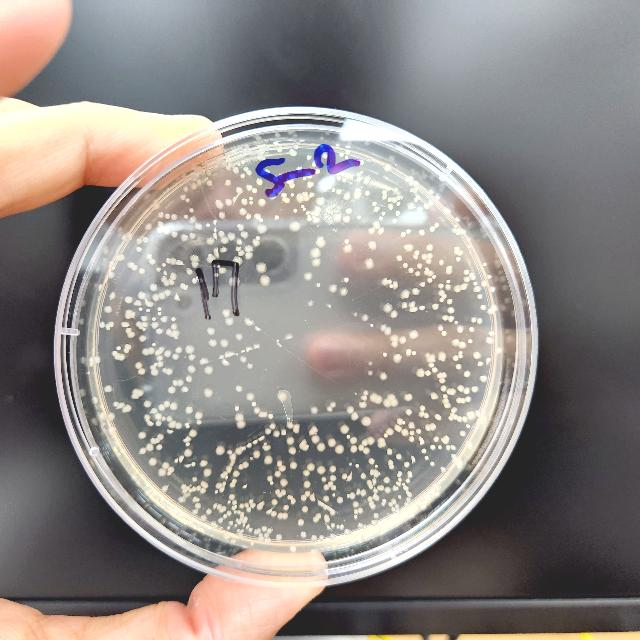colony: (290, 220, 300, 232), (364, 258, 374, 270), (216, 445, 226, 455), (316, 442, 326, 452), (340, 424, 350, 434), (244, 317, 254, 327), (204, 388, 214, 398), (188, 428, 198, 438), (144, 298, 154, 308), (310, 248, 320, 258), (256, 262, 266, 272), (260, 276, 270, 286), (332, 213, 342, 223), (229, 276, 239, 286), (343, 244, 353, 254), (400, 289, 410, 299), (383, 303, 393, 313), (409, 330, 419, 340), (361, 416, 371, 426), (122, 404, 132, 414), (132, 388, 144, 396), (234, 412, 243, 422), (237, 419, 247, 428), (224, 316, 233, 326), (257, 224, 267, 233), (316, 197, 326, 206), (393, 354, 402, 364), (106, 412, 115, 421), (284, 332, 294, 340), (278, 392, 286, 402), (186, 344, 194, 354), (208, 339, 218, 347), (265, 506, 275, 514), (222, 308, 230, 318), (190, 254, 200, 262), (115, 253, 125, 261), (234, 256, 242, 266), (316, 239, 326, 247), (340, 287, 348, 297), (296, 193, 304, 203), (368, 241, 376, 251), (384, 326, 392, 336), (438, 351, 446, 361), (440, 436, 450, 444), (468, 410, 476, 420), (336, 444, 344, 454), (374, 394, 382, 404), (109, 426, 117, 436), (115, 402, 125, 410), (190, 173, 200, 181), (328, 438, 336, 447), (207, 327, 216, 335), (204, 366, 213, 374), (162, 483, 170, 492), (312, 258, 321, 266), (389, 334, 398, 342), (379, 372, 387, 381), (213, 247, 219, 259), (309, 491, 315, 502), (246, 392, 254, 400), (311, 406, 319, 414), (264, 456, 272, 464), (312, 436, 320, 444), (220, 339, 228, 347), (188, 365, 196, 373), (168, 386, 176, 394), (185, 406, 193, 414), (195, 411, 203, 419), (184, 449, 192, 457), (204, 468, 212, 476), (162, 461, 170, 469), (158, 468, 166, 476), (149, 457, 157, 465), (200, 514, 208, 522), (280, 478, 288, 486), (168, 420, 176, 428), (170, 402, 178, 410), (146, 443, 154, 451), (139, 447, 147, 455), (138, 431, 146, 439), (144, 400, 152, 408), (151, 368, 159, 376), (164, 349, 172, 357), (148, 347, 156, 355), (142, 348, 150, 356), (138, 292, 146, 300), (150, 284, 158, 292), (152, 293, 160, 301), (158, 292, 166, 300), (104, 305, 112, 313), (130, 311, 138, 319), (152, 202, 160, 210), (189, 216, 197, 224), (216, 202, 224, 210), (239, 208, 247, 216), (227, 232, 235, 240), (221, 236, 229, 244), (253, 238, 261, 246), (241, 231, 249, 239), (258, 198, 266, 206), (304, 272, 312, 280), (328, 176, 336, 184), (343, 192, 351, 200), (329, 284, 337, 292), (363, 176, 371, 184), (384, 164, 392, 172), (413, 194, 421, 202), (407, 202, 415, 210), (373, 221, 381, 229), (412, 288, 420, 296), (406, 244, 414, 252), (390, 310, 398, 318), (399, 336, 407, 344), (461, 282, 469, 290), (485, 337, 493, 345), (490, 304, 498, 312), (473, 351, 481, 359), (456, 384, 464, 392), (417, 369, 425, 377), (430, 392, 438, 400), (404, 393, 412, 401), (396, 418, 404, 426), (386, 427, 394, 435), (391, 398, 399, 406), (350, 436, 358, 444), (317, 466, 325, 474), (307, 463, 315, 471), (346, 405, 354, 413), (370, 393, 378, 401), (222, 532, 230, 540), (330, 542, 338, 550), (104, 385, 112, 393), (388, 394, 397, 401), (172, 330, 178, 340), (134, 300, 144, 306), (392, 280, 398, 290), (346, 471, 352, 481), (253, 343, 260, 351), (235, 384, 242, 392), (253, 406, 260, 414), (230, 452, 237, 460), (232, 469, 240, 476), (235, 333, 242, 341), (222, 359, 230, 366), (175, 346, 182, 354), (173, 292, 180, 300), (108, 292, 115, 300), (163, 288, 170, 296), (170, 272, 177, 280), (207, 238, 215, 245), (207, 255, 215, 262), (144, 223, 152, 230), (195, 222, 202, 230), (225, 198, 232, 206), (245, 252, 252, 260), (245, 245, 253, 252), (342, 215, 350, 222), (426, 243, 434, 250), (452, 339, 460, 346), (464, 370, 471, 378), (384, 399, 391, 407), (344, 528, 351, 536), (317, 499, 325, 506), (409, 306, 418, 312), (253, 213, 260, 220), (444, 208, 451, 215), (240, 356, 248, 362), (258, 435, 266, 441), (253, 452, 261, 458), (288, 437, 294, 445), (288, 448, 296, 454), (278, 465, 286, 471), (275, 470, 281, 478), (243, 461, 249, 469), (188, 354, 196, 360), (186, 375, 192, 383), (200, 460, 208, 466), (290, 462, 298, 468), (156, 412, 162, 420), (150, 408, 158, 414), (164, 400, 170, 408), (131, 393, 139, 399), (156, 355, 164, 361), (172, 354, 180, 360), (155, 349, 163, 355), (135, 362, 143, 368), (138, 368, 146, 374), (174, 328, 180, 336), (160, 316, 168, 322), (156, 328, 164, 334), (140, 334, 146, 342), (170, 257, 176, 265), (176, 260, 184, 266), (187, 268, 193, 276), (126, 296, 132, 304), (122, 321, 130, 327), (148, 259, 156, 265), (188, 233, 196, 239), (157, 226, 163, 234), (127, 232, 133, 240), (191, 182, 197, 190), (218, 212, 226, 218), (224, 179, 232, 185), (241, 198, 247, 206), (239, 224, 245, 232), (218, 231, 226, 237), (219, 268, 227, 274), (247, 184, 253, 192), (257, 178, 263, 186), (354, 188, 362, 194), (354, 193, 362, 199), (312, 217, 320, 223), (314, 206, 322, 212), (372, 206, 380, 212), (416, 207, 424, 213), (378, 227, 384, 235), (382, 277, 388, 285), (428, 270, 434, 278), (408, 302, 416, 308), (362, 314, 368, 322), (406, 349, 412, 357), (473, 286, 481, 292), (456, 326, 464, 332), (488, 330, 496, 336), (486, 308, 494, 314), (438, 378, 446, 384), (466, 441, 472, 449), (430, 423, 436, 431), (418, 436, 424, 444), (402, 428, 408, 436), (368, 437, 374, 445), (362, 438, 368, 446), (350, 446, 358, 452), (304, 480, 310, 488), (360, 489, 366, 497), (326, 523, 332, 531), (311, 534, 317, 542), (352, 412, 358, 420), (236, 533, 244, 539), (264, 537, 272, 543), (99, 412, 105, 420), (95, 356, 101, 364), (329, 401, 336, 407), (235, 448, 242, 454), (230, 482, 237, 488), (178, 379, 184, 386), (175, 422, 182, 428), (215, 482, 222, 488), (168, 467, 175, 473), (159, 404, 165, 411), (165, 369, 172, 375), (182, 233, 188, 240), (108, 272, 115, 278), (164, 228, 170, 235), (246, 213, 252, 220), (220, 247, 227, 253), (346, 208, 352, 215), (380, 324, 386, 331), (464, 276, 471, 282), (454, 286, 461, 292), (459, 342, 466, 348), (479, 376, 486, 382), (444, 402, 451, 408), (475, 409, 481, 416), (456, 459, 462, 466), (364, 448, 371, 454), (359, 402, 366, 408), (114, 354, 120, 361), (119, 354, 125, 361), (426, 358, 436, 362), (374, 468, 378, 478), (372, 476, 376, 486), (247, 363, 253, 369), (268, 413, 274, 419), (287, 422, 293, 428), (327, 406, 333, 412), (293, 427, 299, 433), (273, 431, 279, 437), (270, 423, 276, 429), (265, 428, 271, 434), (265, 445, 271, 451), (258, 411, 264, 417), (226, 466, 232, 472), (238, 464, 244, 470), (232, 478, 238, 484), (308, 429, 314, 435), (312, 426, 318, 432), (256, 326, 262, 332), (218, 354, 224, 360), (202, 357, 208, 363), (182, 386, 188, 392), (200, 488, 206, 494), (178, 496, 184, 502), (192, 496, 198, 502), (195, 503, 201, 509), (192, 509, 198, 515), (206, 509, 212, 515), (212, 503, 218, 509), (216, 504, 222, 510), (226, 510, 232, 516), (218, 517, 224, 523), (210, 520, 216, 526), (228, 520, 234, 526), (229, 494, 235, 500), (244, 502, 250, 508), (250, 502, 256, 508), (259, 500, 265, 506), (257, 504, 263, 510), (272, 499, 278, 505), (290, 498, 296, 504), (283, 504, 289, 510), (167, 416, 173, 422), (156, 420, 162, 426), (158, 434, 164, 440), (151, 438, 157, 444), (156, 444, 162, 450), (148, 420, 154, 426), (144, 414, 150, 420), (150, 364, 156, 370), (162, 367, 168, 373), (158, 361, 164, 367), (180, 283, 186, 289), (152, 322, 158, 328), (192, 278, 198, 284), (166, 258, 172, 264), (139, 268, 145, 274), (132, 264, 138, 270), (128, 262, 134, 268), (164, 280, 170, 286), (128, 332, 134, 338), (108, 321, 114, 327), (136, 246, 142, 252), (136, 238, 142, 244), (142, 237, 148, 243), (172, 232, 178, 238), (192, 262, 198, 268), (171, 214, 177, 220), (158, 212, 164, 218), (158, 221, 164, 227), (180, 194, 186, 200), (207, 180, 213, 186), (216, 199, 222, 205), (236, 187, 242, 193), (235, 246, 241, 252), (238, 250, 244, 256), (236, 238, 242, 244), (274, 214, 280, 220), (252, 188, 258, 194), (246, 170, 252, 176), (233, 167, 239, 173), (257, 154, 263, 160), (308, 192, 314, 198), (304, 196, 310, 202), (336, 189, 342, 195), (364, 190, 370, 196), (307, 300, 313, 306), (314, 210, 320, 216), (322, 152, 328, 158), (288, 149, 294, 155), (292, 151, 298, 157), (382, 194, 388, 200), (391, 197, 397, 203), (404, 176, 410, 182), (413, 180, 419, 186), (412, 188, 418, 194), (427, 200, 433, 206), (400, 232, 406, 238), (368, 228, 374, 234), (396, 255, 402, 261), (408, 267, 414, 273), (419, 282, 425, 288), (412, 254, 418, 260), (414, 250, 420, 256), (421, 254, 427, 260), (427, 253, 433, 259), (426, 258, 432, 264), (438, 259, 444, 265), (401, 302, 407, 308), (352, 312, 358, 318), (392, 341, 398, 347), (438, 324, 444, 330), (432, 304, 438, 310), (438, 290, 444, 296), (448, 307, 454, 313), (448, 316, 454, 322), (446, 269, 452, 275), (419, 230, 425, 236), (434, 222, 440, 228), (458, 250, 464, 256), (445, 284, 451, 290), (480, 304, 486, 310), (471, 317, 477, 323), (468, 326, 474, 332), (486, 274, 492, 280), (481, 281, 487, 287), (469, 272, 475, 278), (496, 347, 502, 353), (472, 386, 478, 392), (464, 388, 470, 394), (450, 389, 456, 395), (446, 388, 452, 394), (441, 385, 447, 391), (436, 372, 442, 378), (442, 372, 448, 378), (425, 370, 431, 376), (428, 362, 434, 368), (425, 352, 431, 358), (430, 353, 436, 359), (419, 405, 425, 411), (424, 412, 430, 418), (418, 411, 424, 417), (456, 397, 462, 403), (460, 398, 466, 404), (442, 398, 448, 404), (456, 416, 462, 422), (462, 416, 468, 422), (460, 430, 466, 436), (450, 444, 456, 450), (430, 444, 436, 450), (440, 466, 446, 472), (452, 457, 458, 463), (408, 436, 414, 442), (408, 422, 414, 428), (394, 424, 400, 430), (396, 426, 402, 432), (432, 483, 438, 489), (404, 461, 410, 467), (419, 495, 425, 501), (396, 453, 402, 459), (388, 459, 394, 465), (384, 477, 390, 483), (385, 487, 391, 493), (406, 409, 412, 415), (358, 444, 364, 450), (369, 458, 375, 464), (360, 472, 366, 478), (342, 473, 348, 479), (330, 475, 336, 481), (330, 466, 336, 472), (304, 470, 310, 476), (305, 491, 311, 497), (301, 494, 307, 500), (323, 496, 329, 502), (328, 481, 334, 487), (324, 484, 330, 490), (337, 497, 343, 503), (350, 492, 356, 498), (372, 487, 378, 493), (374, 495, 380, 501), (368, 500, 374, 506), (353, 501, 359, 507), (371, 520, 377, 526), (357, 522, 363, 528), (313, 516, 319, 522), (302, 506, 308, 512), (298, 519, 304, 525), (300, 531, 306, 537), (318, 535, 324, 541), (330, 533, 336, 539), (276, 534, 282, 540), (290, 545, 296, 551), (231, 538, 237, 544), (258, 532, 264, 538), (258, 536, 264, 542), (362, 533, 368, 539), (112, 350, 118, 356), (124, 348, 130, 354), (125, 344, 131, 350), (100, 322, 106, 328), (222, 161, 228, 167), (246, 346, 254, 350), (264, 410, 268, 418), (180, 455, 184, 463), (184, 464, 192, 468), (166, 328, 170, 336), (213, 232, 217, 240), (418, 306, 426, 310), (486, 357, 490, 365), (411, 455, 415, 463), (378, 438, 386, 442), (378, 526, 386, 530), (94, 396, 98, 404), (426, 424, 430, 431), (234, 406, 240, 410), (282, 429, 286, 435), (252, 440, 258, 444), (246, 443, 252, 447), (278, 460, 282, 466), (267, 476, 273, 480), (242, 484, 248, 488), (230, 459, 236, 463), (301, 440, 307, 444), (300, 443, 304, 449), (302, 447, 308, 451), (174, 379, 178, 385), (196, 420, 202, 424), (186, 435, 190, 441), (168, 430, 174, 434), (192, 477, 198, 481), (220, 474, 226, 478), (220, 486, 224, 492), (197, 485, 201, 491), (192, 486, 196, 492), (182, 489, 188, 493), (249, 498, 253, 504), (246, 507, 252, 511), (271, 512, 277, 516), (278, 513, 282, 519), (284, 512, 288, 518), (276, 488, 280, 494), (278, 492, 282, 498), (160, 346, 164, 352), (171, 324, 177, 328), (184, 284, 188, 290), (141, 316, 147, 320), (170, 279, 174, 285), (156, 268, 162, 272), (162, 276, 166, 282), (136, 322, 142, 326), (142, 322, 148, 326), (126, 328, 132, 332), (126, 314, 130, 320), (126, 310, 132, 314), (213, 220, 217, 226), (164, 214, 170, 218), (122, 234, 126, 240), (184, 186, 188, 192), (232, 196, 236, 202), (240, 174, 246, 178), (244, 166, 248, 172), (282, 192, 286, 198), (318, 236, 324, 240), (316, 282, 320, 288), (289, 184, 295, 188), (302, 192, 308, 196), (294, 144, 298, 150), (307, 154, 311, 160), (306, 175, 312, 179), (340, 172, 346, 176), (336, 176, 342, 180), (356, 173, 362, 177), (326, 304, 332, 308), (344, 277, 348, 283), (310, 210, 314, 216), (340, 152, 344, 158), (382, 190, 388, 194), (393, 218, 397, 224), (396, 210, 400, 216), (408, 181, 414, 185), (436, 194, 440, 200), (406, 228, 410, 234), (402, 264, 408, 268), (416, 264, 422, 268), (404, 244, 408, 250), (424, 270, 430, 274), (368, 370, 372, 376), (442, 330, 446, 336), (438, 284, 444, 288), (442, 316, 448, 320), (446, 265, 452, 269), (430, 226, 434, 232), (454, 218, 460, 222), (460, 230, 466, 234), (454, 246, 460, 250), (456, 256, 460, 262), (466, 237, 472, 241), (464, 270, 470, 274), (478, 294, 482, 300), (478, 318, 482, 324), (490, 286, 494, 292), (470, 276, 476, 280), (477, 362, 483, 366), (452, 356, 458, 360), (456, 364, 462, 368), (432, 368, 438, 372), (442, 394, 448, 398), (466, 396, 470, 402), (452, 407, 458, 411), (448, 416, 454, 420), (453, 414, 457, 420), (466, 412, 472, 416), (434, 436, 438, 442), (422, 448, 426, 454), (416, 428, 420, 434), (403, 486, 409, 490), (388, 448, 392, 454), (388, 465, 394, 469), (392, 498, 396, 504), (404, 502, 410, 506), (406, 496, 410, 502), (408, 492, 412, 498), (420, 504, 426, 508), (380, 485, 384, 491), (370, 469, 374, 475), (322, 476, 326, 482), (332, 484, 336, 490), (356, 489, 360, 495), (373, 492, 377, 498), (368, 496, 372, 502), (370, 504, 376, 508), (374, 512, 378, 518), (358, 508, 364, 512), (354, 508, 358, 514), (366, 480, 372, 484), (363, 524, 367, 530), (340, 524, 344, 530), (331, 522, 335, 528), (324, 514, 328, 520), (324, 518, 330, 522), (315, 514, 321, 518), (323, 504, 327, 510), (330, 510, 336, 514), (360, 394, 364, 400), (364, 389, 368, 395), (232, 500, 238, 504), (268, 527, 272, 533), (264, 532, 270, 536), (90, 357, 94, 363), (106, 324, 110, 330), (98, 284, 102, 290), (388, 203, 394, 207), (165, 270, 168, 276), (296, 167, 302, 170), (414, 187, 420, 190), (255, 528, 258, 534), (241, 349, 245, 353), (252, 402, 256, 406), (296, 424, 300, 428), (242, 446, 246, 450), (262, 445, 266, 449), (270, 481, 274, 485), (228, 450, 232, 454), (230, 462, 234, 466), (346, 435, 350, 439), (199, 360, 203, 364), (183, 438, 187, 442), (186, 442, 190, 446), (191, 462, 195, 466), (224, 471, 228, 475), (223, 482, 227, 486), (204, 484, 208, 488), (202, 482, 206, 486), (184, 493, 188, 497), (187, 492, 191, 496), (182, 484, 186, 488), (186, 486, 190, 490), (219, 508, 223, 512), (223, 506, 227, 510), (224, 514, 228, 518), (214, 524, 218, 528), (240, 504, 244, 508), (282, 490, 286, 494), (287, 495, 291, 499), (290, 496, 294, 500), (162, 416, 166, 420), (156, 438, 160, 442), (145, 418, 149, 422), (154, 362, 158, 366), (171, 317, 175, 321), (157, 307, 161, 311), (158, 312, 162, 316), (152, 317, 156, 321), (146, 308, 150, 312), (148, 254, 152, 258), (208, 253, 212, 257), (110, 261, 114, 265), (206, 223, 210, 227), (184, 215, 188, 219), (190, 208, 194, 212), (186, 198, 190, 202), (198, 180, 202, 184), (256, 236, 260, 240), (259, 218, 263, 222), (226, 166, 230, 170), (241, 160, 245, 164), (278, 148, 282, 152), (262, 156, 266, 160), (282, 197, 286, 201), (286, 198, 290, 202), (293, 209, 297, 213), (312, 163, 316, 167), (316, 170, 320, 174), (290, 180, 294, 184), (286, 181, 290, 185), (310, 182, 314, 186), (332, 188, 336, 192), (342, 178, 346, 182), (357, 215, 361, 219), (215, 273, 219, 277), (345, 239, 349, 243), (308, 217, 312, 221), (306, 211, 310, 215), (346, 150, 350, 154), (360, 160, 364, 164), (373, 202, 377, 206), (379, 216, 383, 220), (388, 198, 392, 202), (394, 188, 398, 192), (397, 196, 401, 200), (410, 176, 414, 180), (429, 190, 433, 194), (423, 203, 427, 207), (425, 205, 429, 209), (371, 227, 375, 231), (388, 280, 392, 284), (416, 272, 420, 276), (432, 275, 436, 279), (428, 278, 432, 282), (412, 351, 416, 355), (383, 353, 387, 357), (368, 361, 372, 365), (440, 298, 444, 302), (442, 294, 446, 298), (448, 300, 452, 304), (452, 228, 456, 232), (456, 231, 460, 235), (454, 251, 458, 255), (483, 262, 487, 266), (473, 281, 477, 285), (454, 321, 458, 325), (468, 339, 472, 343), (458, 351, 462, 355), (458, 354, 462, 358), (435, 414, 439, 418), (437, 416, 441, 420), (451, 409, 455, 413), (466, 424, 470, 428), (446, 446, 450, 450), (438, 445, 442, 449), (425, 456, 429, 460), (430, 462, 434, 466), (452, 454, 456, 458), (410, 431, 414, 435), (384, 433, 388, 437), (408, 474, 412, 478), (406, 479, 410, 483), (398, 478, 402, 482), (398, 471, 402, 475), (392, 486, 396, 490), (389, 502, 393, 506), (395, 504, 399, 508), (391, 507, 395, 511), (396, 509, 400, 513), (382, 498, 386, 502), (381, 502, 385, 506), (378, 444, 382, 448), (382, 442, 386, 446), (348, 462, 352, 466), (374, 464, 378, 468), (354, 515, 358, 519), (368, 482, 372, 486), (369, 485, 373, 489), (364, 396, 368, 400), (240, 514, 244, 518), (237, 520, 241, 524), (242, 520, 246, 524), (244, 516, 248, 520), (249, 528, 253, 532), (262, 526, 266, 530), (250, 541, 254, 545), (114, 402, 118, 406), (90, 363, 94, 367), (117, 346, 121, 350), (266, 169, 270, 173), (228, 162, 232, 166), (175, 458, 178, 462), (226, 474, 228, 480), (184, 497, 186, 503), (162, 263, 165, 267), (214, 227, 216, 233), (237, 224, 240, 228), (307, 185, 311, 188), (328, 187, 332, 190), (361, 170, 364, 174), (312, 217, 316, 220), (345, 146, 351, 148), (401, 195, 404, 199), (371, 323, 374, 327), (454, 225, 458, 228), (446, 280, 449, 284), (434, 492, 440, 494), (405, 491, 409, 494), (346, 494, 349, 498), (336, 524, 339, 528), (326, 506, 329, 510), (232, 506, 235, 510), (258, 528, 260, 534), (237, 528, 240, 532), (250, 456, 253, 459), (215, 491, 218, 494), (276, 340, 280, 342), (277, 342, 279, 346), (236, 352, 238, 356), (264, 442, 266, 446), (306, 444, 308, 448), (186, 422, 188, 426), (190, 488, 192, 492), (198, 498, 200, 502), (236, 518, 238, 522), (152, 344, 156, 346), (142, 328, 146, 330), (140, 307, 142, 311), (196, 276, 198, 280), (139, 326, 143, 328), (250, 196, 252, 200), (250, 201, 252, 205), (238, 162, 240, 166), (290, 194, 294, 196), (302, 208, 306, 210), (306, 182, 310, 184), (274, 143, 278, 145), (382, 212, 384, 216), (398, 202, 400, 206), (410, 188, 412, 192), (390, 284, 392, 288), (425, 268, 429, 270), (457, 228, 461, 230), (450, 414, 454, 416), (402, 422, 406, 424), (407, 472, 411, 474), (402, 483, 406, 485), (398, 482, 400, 486), (397, 474, 401, 476), (398, 496, 402, 498), (378, 486, 380, 490), (378, 472, 380, 476), (356, 464, 358, 468), (332, 494, 336, 496), (238, 510, 240, 514), (246, 525, 248, 529), (242, 528, 244, 532), (247, 350, 250, 352), (187, 426, 190, 428), (235, 524, 238, 526), (234, 511, 236, 514), (228, 501, 230, 504), (170, 334, 173, 336), (302, 205, 304, 208), (304, 177, 306, 180), (396, 486, 398, 489), (280, 344, 282, 346), (315, 433, 317, 435), (190, 484, 192, 486), (168, 472, 170, 474), (228, 526, 230, 528), (184, 356, 186, 358), (154, 200, 156, 202), (310, 156, 312, 158), (219, 266, 221, 268), (308, 215, 310, 217), (346, 156, 348, 158), (468, 246, 470, 248), (470, 252, 472, 254), (396, 482, 398, 484), (410, 514, 412, 516), (330, 508, 332, 510), (355, 392, 357, 394), (235, 505, 237, 507), (242, 512, 244, 514), (240, 518, 242, 520), (243, 524, 245, 526), (248, 524, 250, 526), (272, 528, 274, 530), (240, 530, 242, 532), (88, 372, 90, 374), (99, 289, 101, 291), (390, 208, 392, 210)
